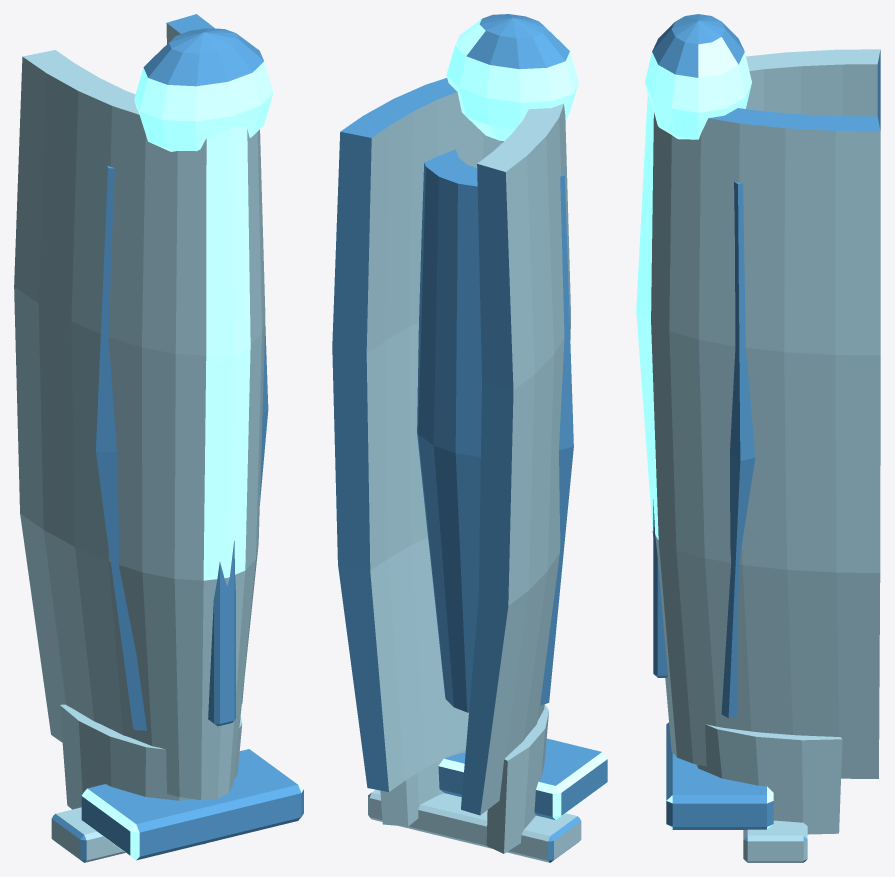
The model's file is left_shin.glb.
3 views of the same model, side by side, from view 1: azimuth 30°, elevation 25°; view 2: azimuth 150°, elevation 25°; view 3: azimuth 270°, elevation 25° (orthographic). The views are drawn at different scales.
Parts seen in each view (by area): view 1: armor_left_shin_v001; view 2: armor_left_shin_v001; view 3: armor_left_shin_v001.
Part boxes in pixels (x1,y1,x2,y2): armor_left_shin_v001: (14,14,303,862); armor_left_shin_v001: (332,14,607,862); armor_left_shin_v001: (636,14,880,862).
Bounding box in the file's own units: 0.1017 × 0.4105 × 0.1141.
